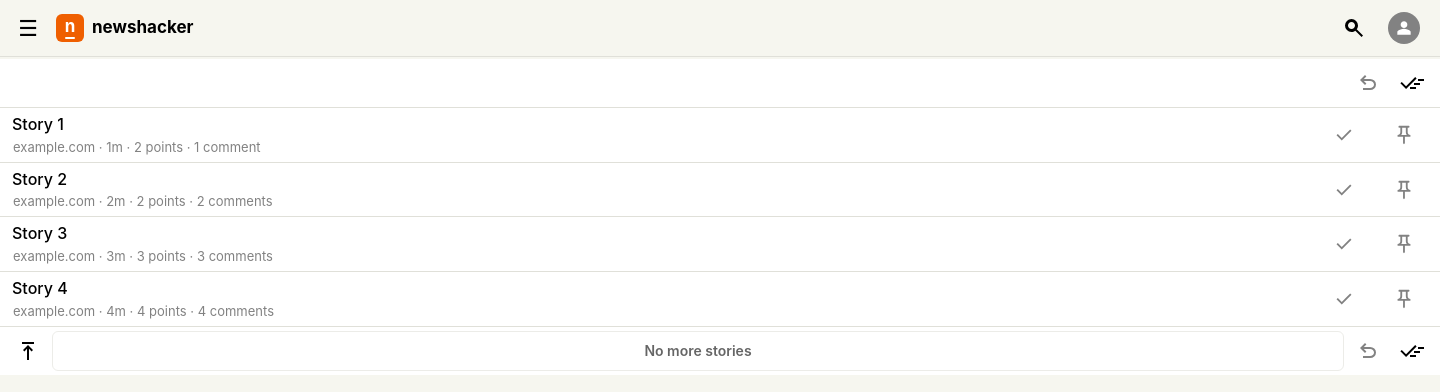
<StoryList> pinned-to-top block › pinning an in-feed row keeps it at its natural position (no jump to the top block)
The width and height of the screenshot is (1440, 392).
Expected: the link with test id "story-title" shows "Story 3", [12,223,273,264]
Click the 6th button with test id "pin-btn" at {"x": 1404, "y": 244}, box [1380,217,1428,271]
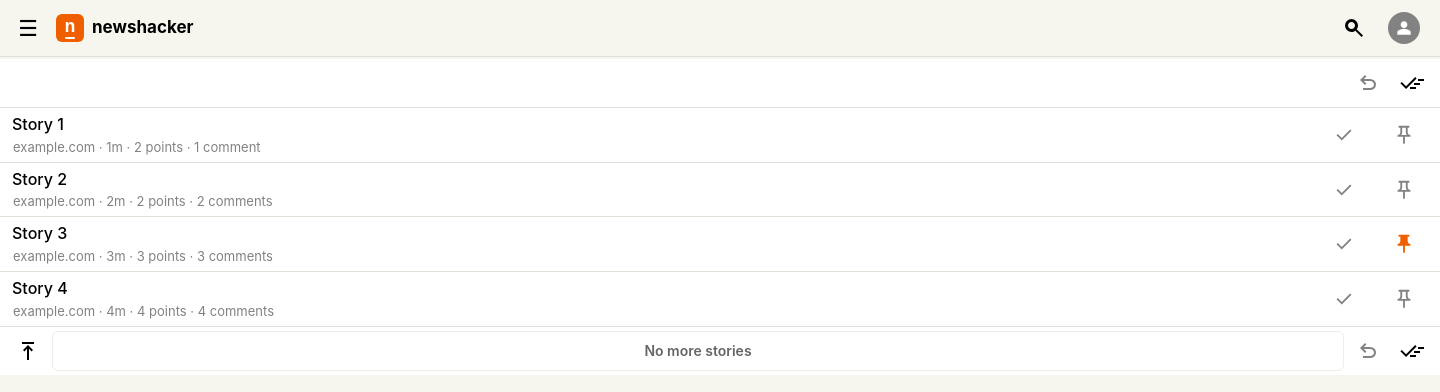
Result: the button with test id "pin-btn" is pressed at [1380,217,1428,271]
